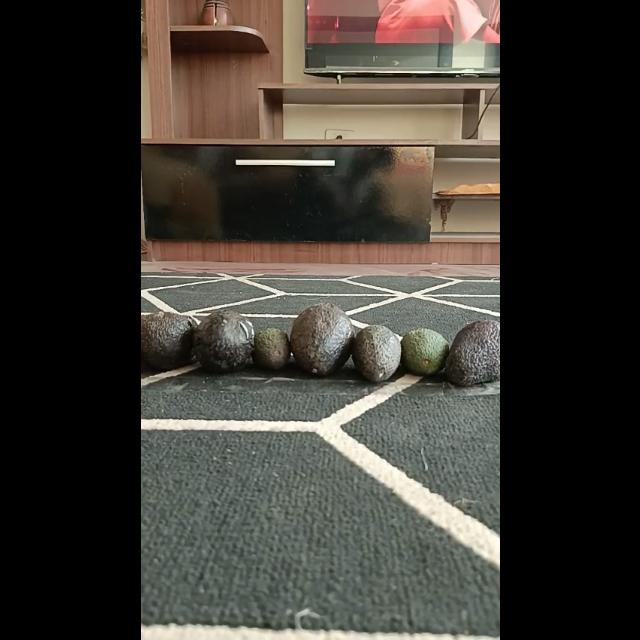Primera: (290, 303, 354, 375), (191, 308, 255, 372), (444, 319, 498, 386), (140, 311, 196, 371)
Segunda: (350, 324, 400, 382), (400, 327, 450, 375)
Tercera: (252, 326, 290, 369)
